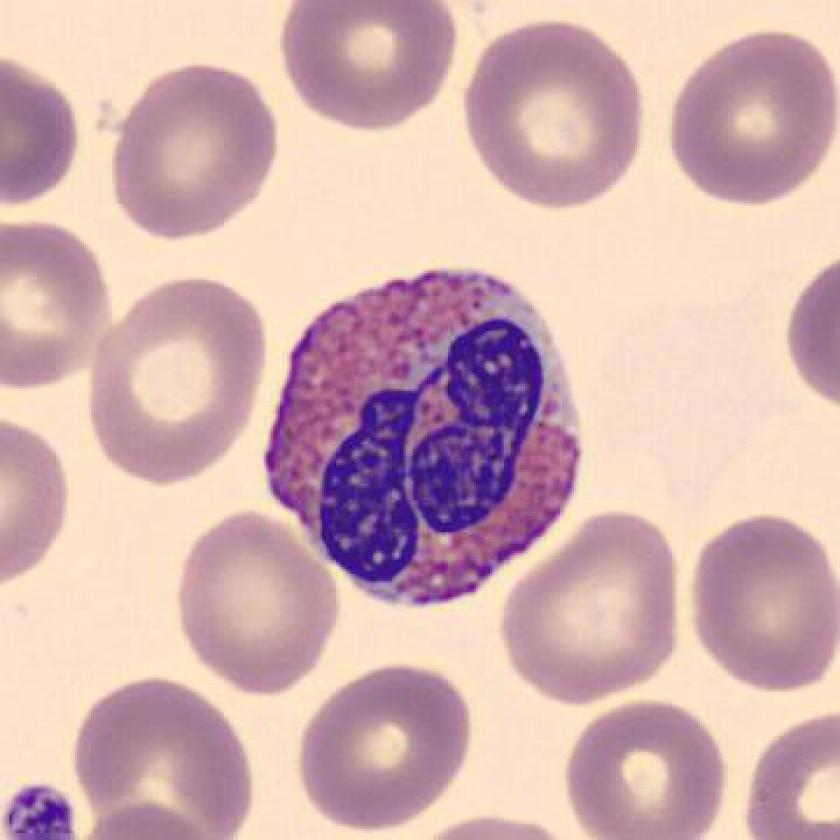eosinophil: (246, 253, 598, 619)
